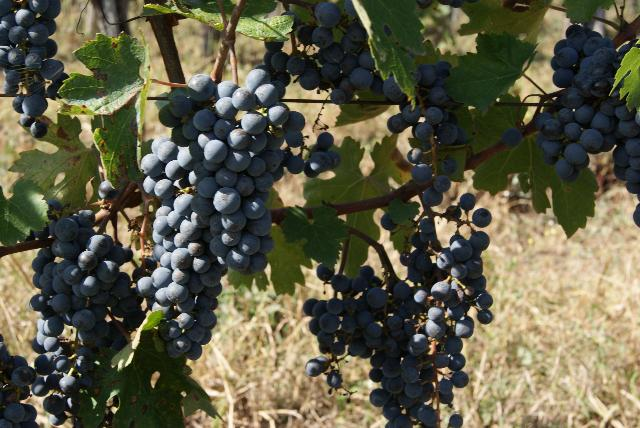grapes: (285, 2, 468, 208), (169, 74, 340, 274), (30, 210, 159, 422), (304, 265, 468, 428), (534, 25, 640, 198), (140, 138, 220, 360), (400, 218, 492, 388), (132, 258, 158, 300)
